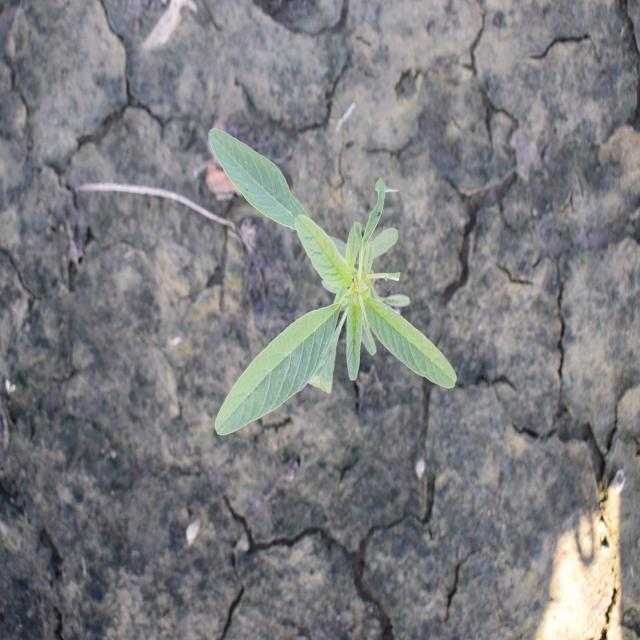Waterhemp: (206, 125, 459, 438)
